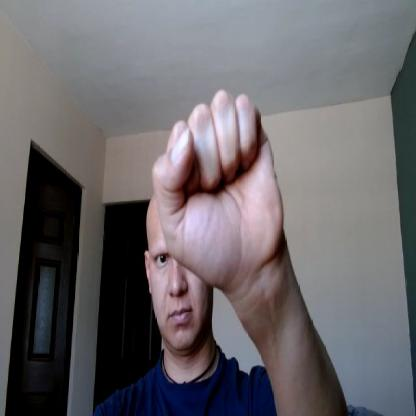S: (152, 88, 287, 285)
